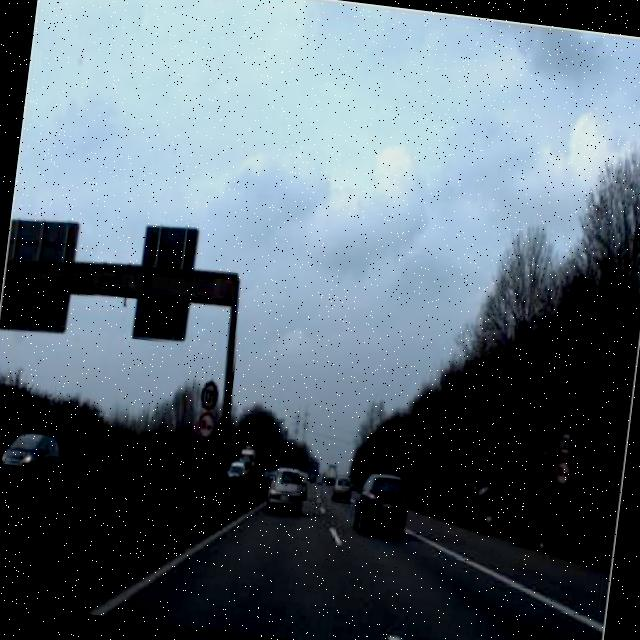Ograniczenie predkosci do 120: (552, 422, 579, 462), (197, 377, 221, 412)
